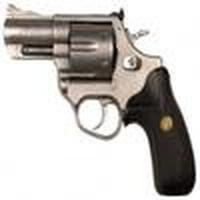gun: (1, 4, 196, 199)
